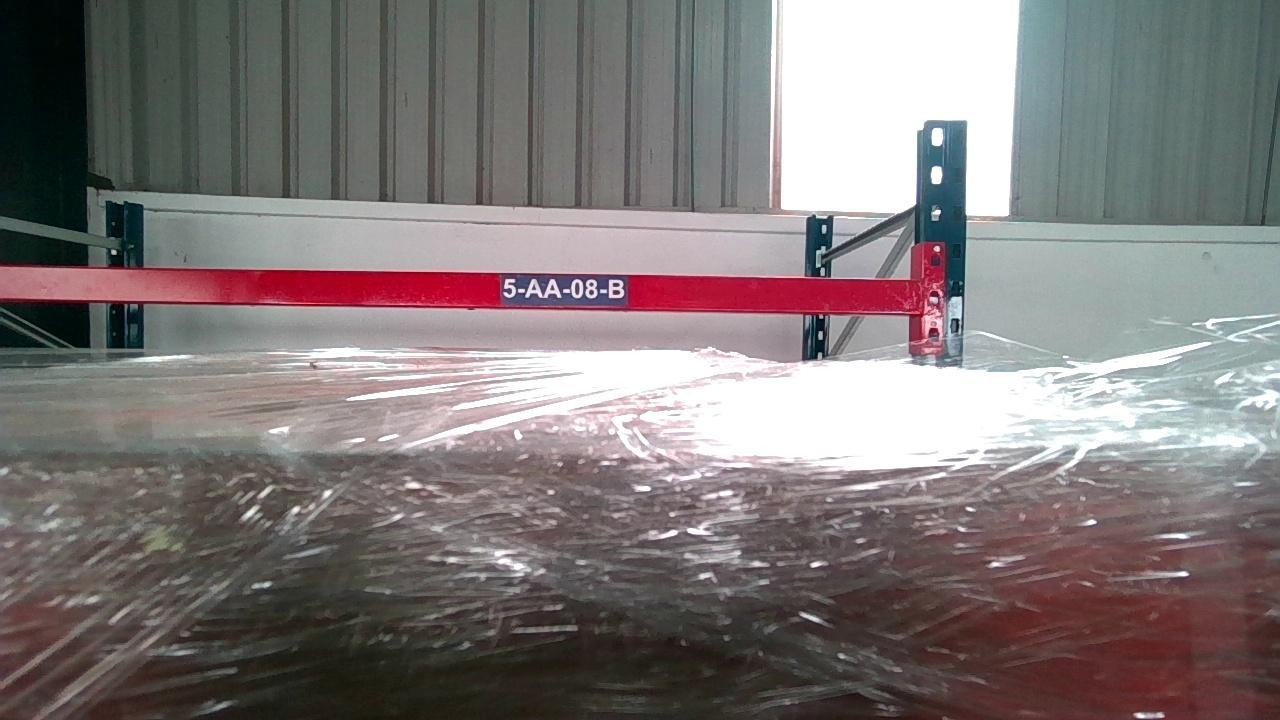h_rack: (0, 263, 921, 315)
